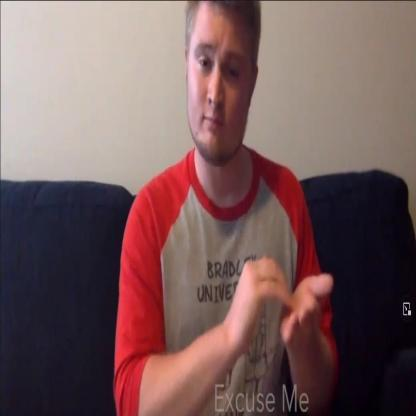ExcuseMe: (222, 232, 334, 368)
